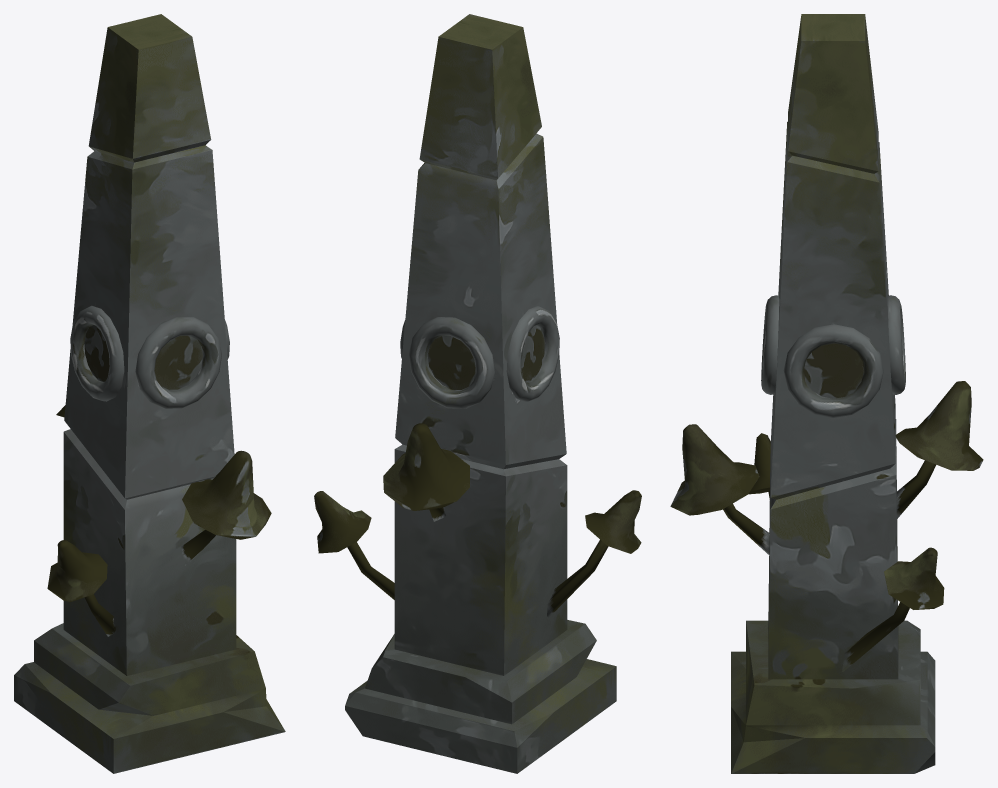
Rendered from filar_grzyby.obj.
The picture shows the model from 3 angles, left to right: view 1: azimuth 30°, elevation 25°; view 2: azimuth 150°, elevation 25°; view 3: azimuth 270°, elevation 25°; orthographic projection. The views are drawn at different scales.
Visible parts, largest first — view 1: Cube.055; view 2: Cube.055; view 3: Cube.055.
Boxes of the visible parts, x1=… form: Cube.055: x1=14, y1=14, x2=285, y2=773; Cube.055: x1=314, y1=14, x2=641, y2=773; Cube.055: x1=670, y1=14, x2=983, y2=773.
Size of the model in its own units: 11.17 by 29.12 by 11.75.
1 material, 1 textured.
